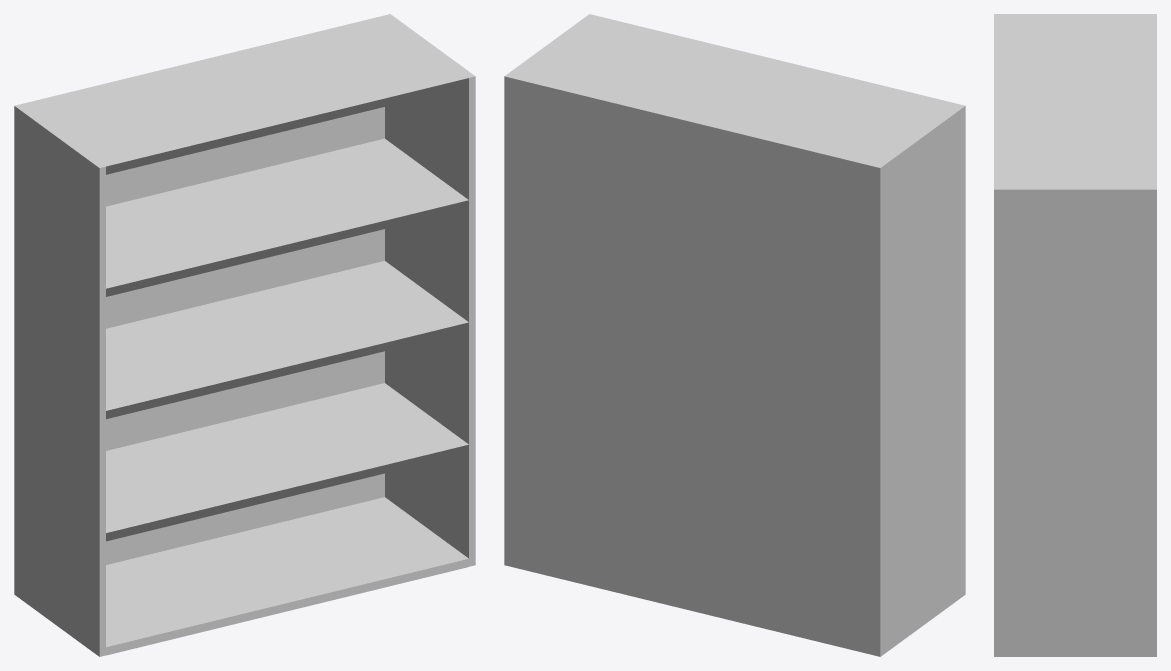
Rendered from shelf_049.glb.
3 renders of one model, left to right at view 1: azimuth 30°, elevation 25°; view 2: azimuth 150°, elevation 25°; view 3: azimuth 270°, elevation 25°, orthographic. The views are drawn at different scales.
Parts seen in each view (by area): view 1: shelf_049; view 2: shelf_049; view 3: shelf_049.
Boxes of the visible parts, x1=… form: shelf_049: x1=14, y1=14, x2=475, y2=656; shelf_049: x1=504, y1=14, x2=965, y2=656; shelf_049: x1=994, y1=14, x2=1156, y2=656.
Bounding box in the file's own units: 1.03 × 1.28 × 0.4027.
Materials: 1 (1 with a texture image).
